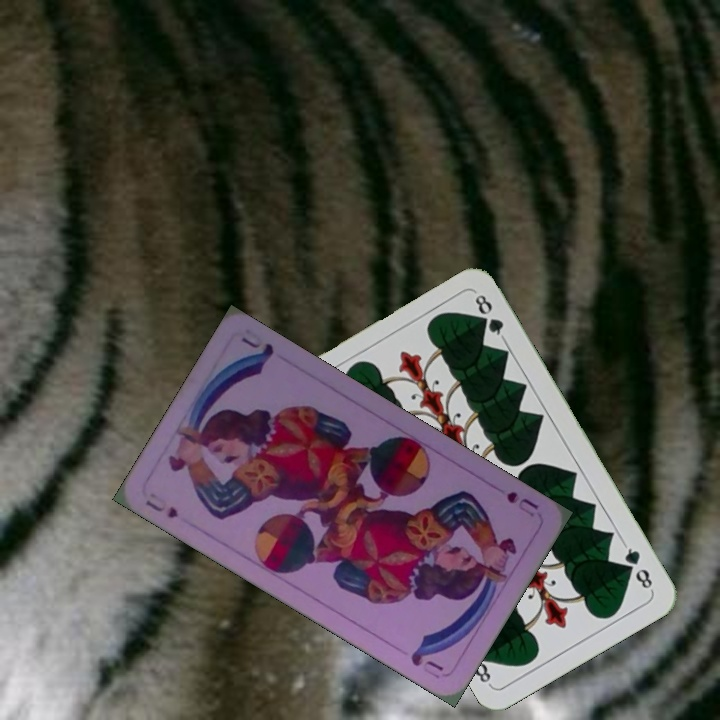G8: (619, 540, 655, 594)
SU: (502, 487, 541, 520), (141, 495, 181, 521)
